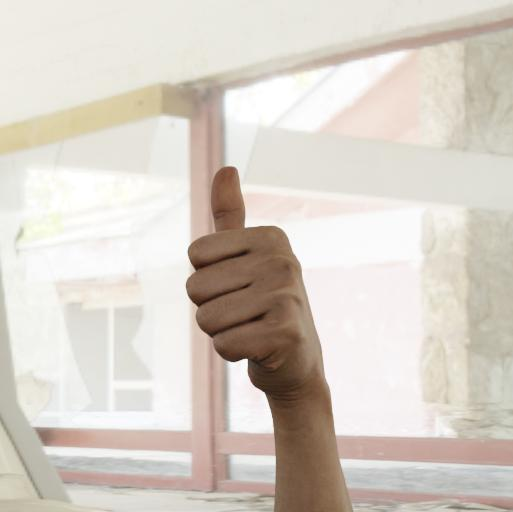thumbs-up: (182, 155, 324, 395)
